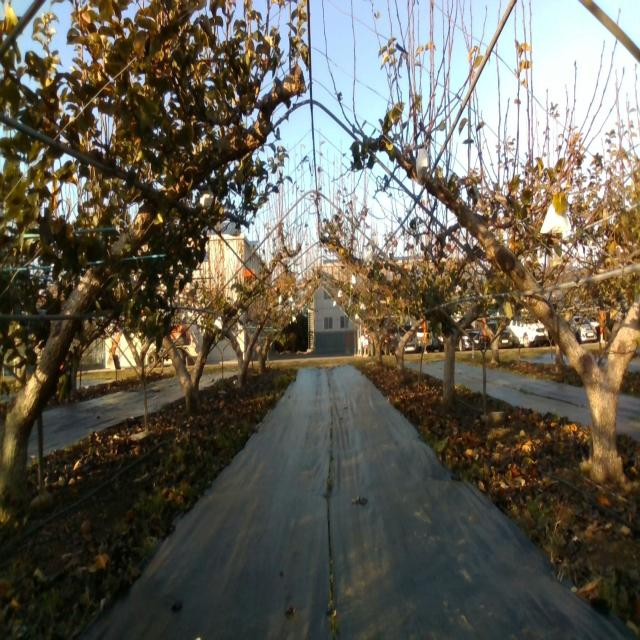pearbags: (540, 203, 572, 235), (416, 148, 430, 184), (197, 184, 214, 208)
